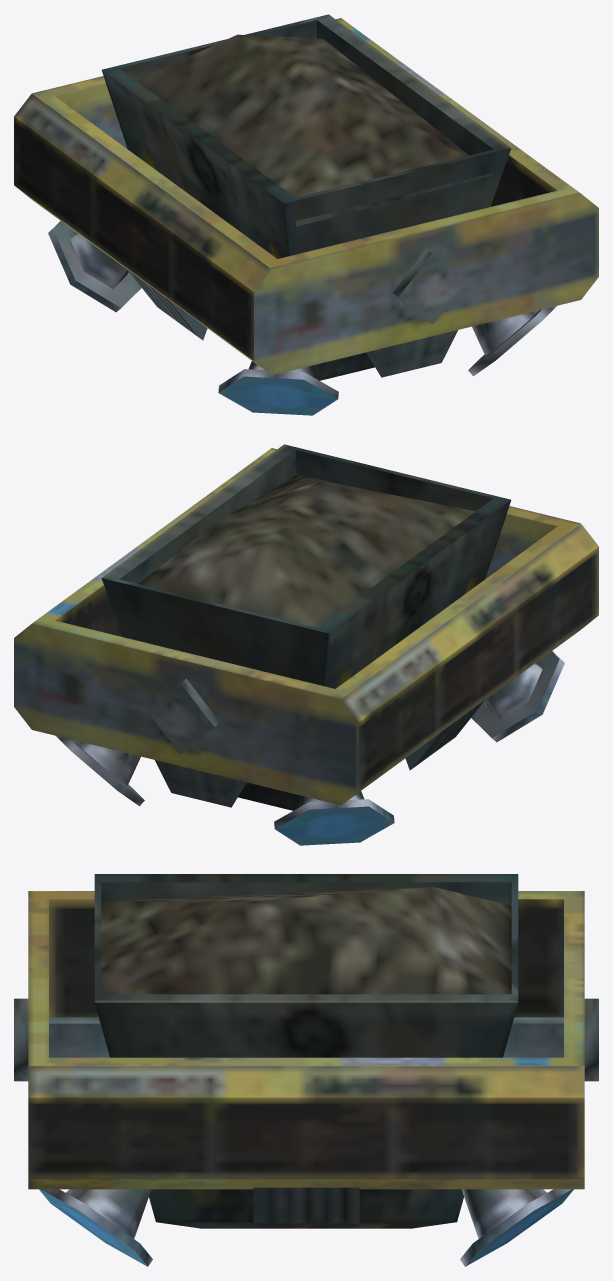
Rendered from bunker_mine_lift_s01_l2.fbx.
3 views of the same model, one above another, from view 1: azimuth 30°, elevation 25°; view 2: azimuth 150°, elevation 25°; view 3: azimuth 270°, elevation 25° (orthographic). The views are drawn at different scales.
Visible parts, largest first — view 1: mesh_node; view 2: mesh_node; view 3: mesh_node.
Part boxes in pixels (x1,y1,x2,y2): mesh_node: (14,14,598,415); mesh_node: (14,444,598,845); mesh_node: (14,874,598,1266).
Bounding box in the file's own units: 5.93 × 4.35 × 7.51.
Materials: 1 (1 with a texture image).
